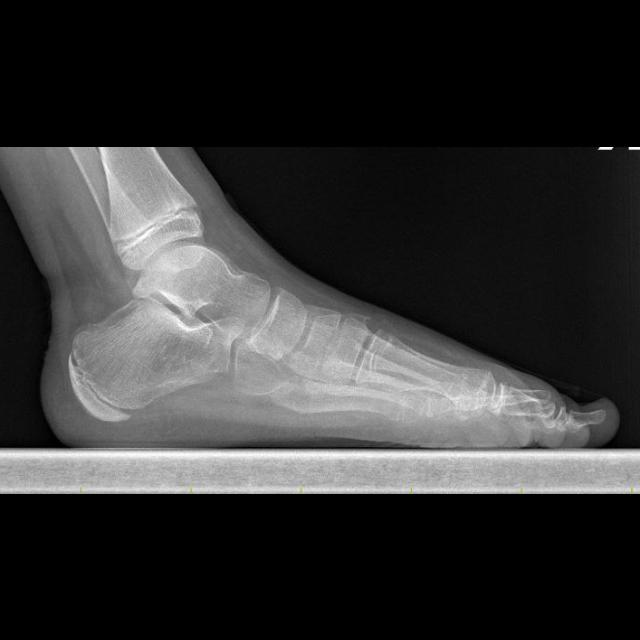a: (69, 298, 242, 420)
b: (247, 285, 307, 361)
c: (355, 331, 495, 417)
